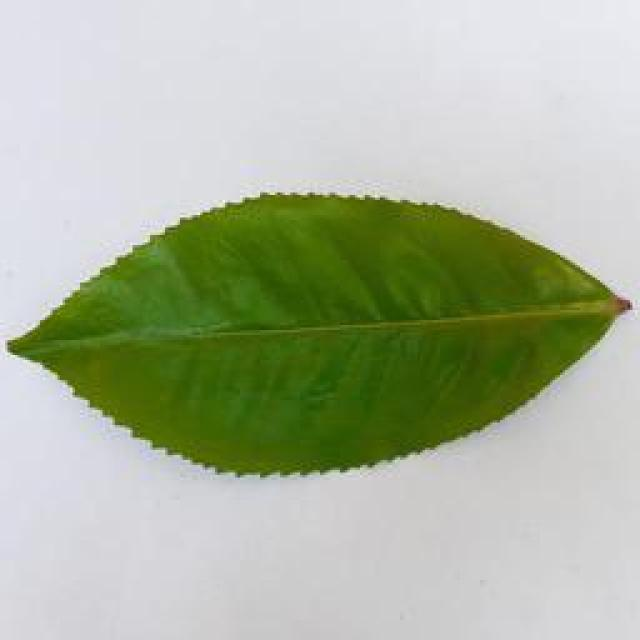Healthy: (0, 187, 640, 477)
